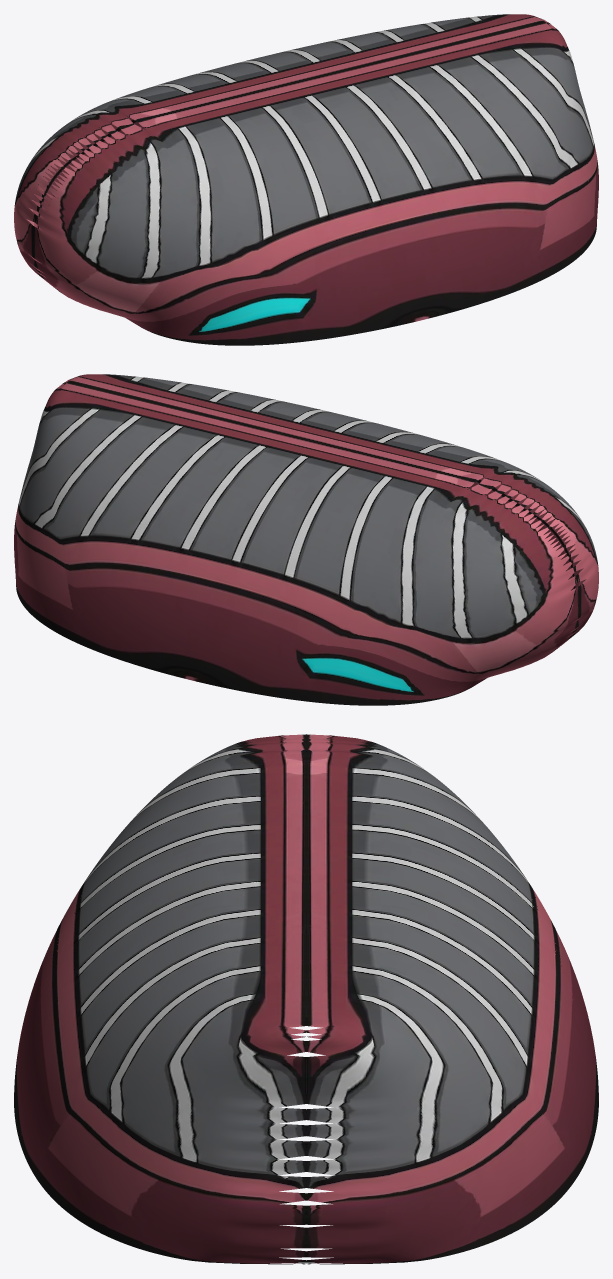
File: return_conveyor.glb
3 views of the same model, one above another, from view 1: azimuth 30°, elevation 25°; view 2: azimuth 150°, elevation 25°; view 3: azimuth 270°, elevation 25° (orthographic). The views are drawn at different scales.
Visible parts, largest first — view 1: return_conveyor; view 2: return_conveyor; view 3: return_conveyor.
Boxes of the visible parts, x1,y1,x2,y2 form: return_conveyor: [14, 14, 598, 345]; return_conveyor: [14, 374, 598, 705]; return_conveyor: [14, 734, 598, 1264].
Size of the model in its own units: 0.989 by 0.2898 by 0.669.
Materials: 1 (1 with a texture image).
